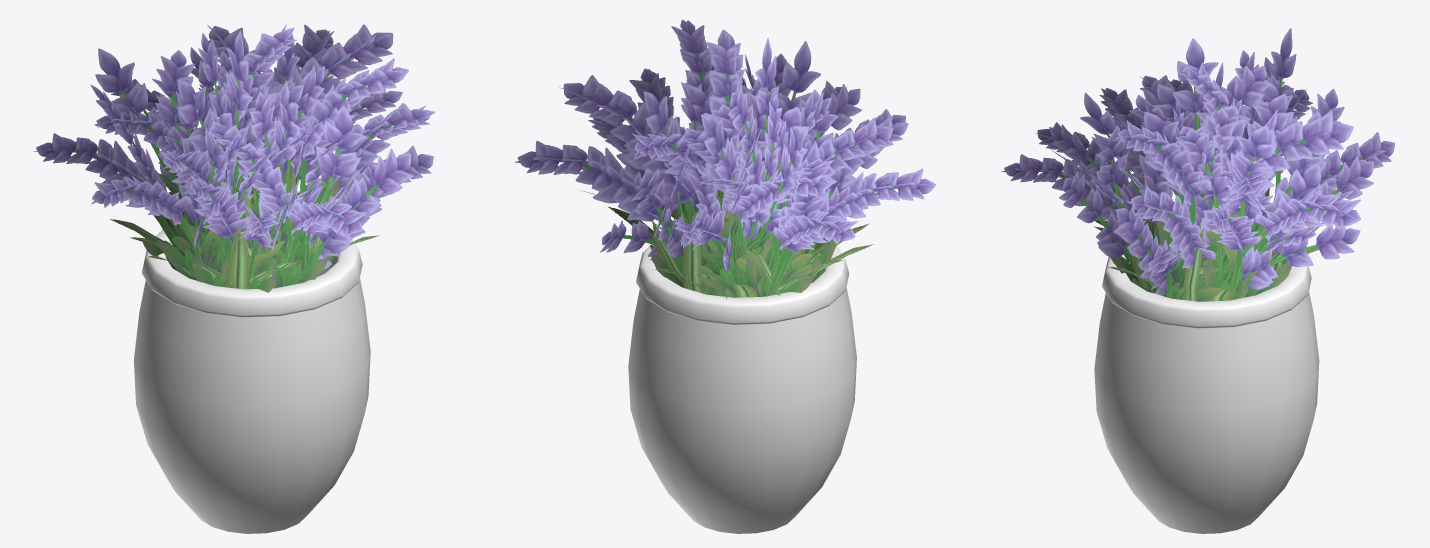
The model's file is SM_Potted_Lavender.fbx.
The picture shows the model from 3 angles, left to right: view 1: azimuth 30°, elevation 25°; view 2: azimuth 150°, elevation 25°; view 3: azimuth 270°, elevation 25°; orthographic projection. The views are drawn at different scales.
Parts seen in each view (by area): view 1: SM_Potted_Lavender_LOD0; view 2: SM_Potted_Lavender_LOD0; view 3: SM_Potted_Lavender_LOD0.
Boxes of the visible parts, x1,y1,x2,y2 form: SM_Potted_Lavender_LOD0: [33, 23, 435, 533]; SM_Potted_Lavender_LOD0: [515, 19, 935, 533]; SM_Potted_Lavender_LOD0: [1001, 28, 1394, 533].
Size of the model in its own units: 119 by 121 by 148.
Materials: 2 (1 with a texture image).
